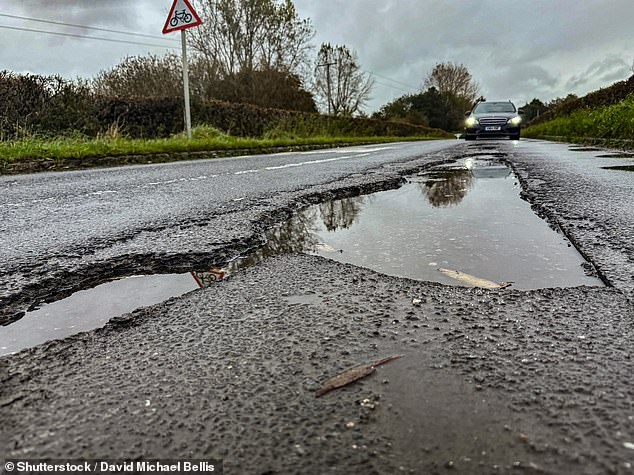Car: (463, 98, 524, 145)
Hole_in_the_road: (266, 140, 626, 320), (15, 252, 213, 350)
Tree: (203, 1, 299, 120), (308, 42, 372, 122), (421, 58, 464, 122)
